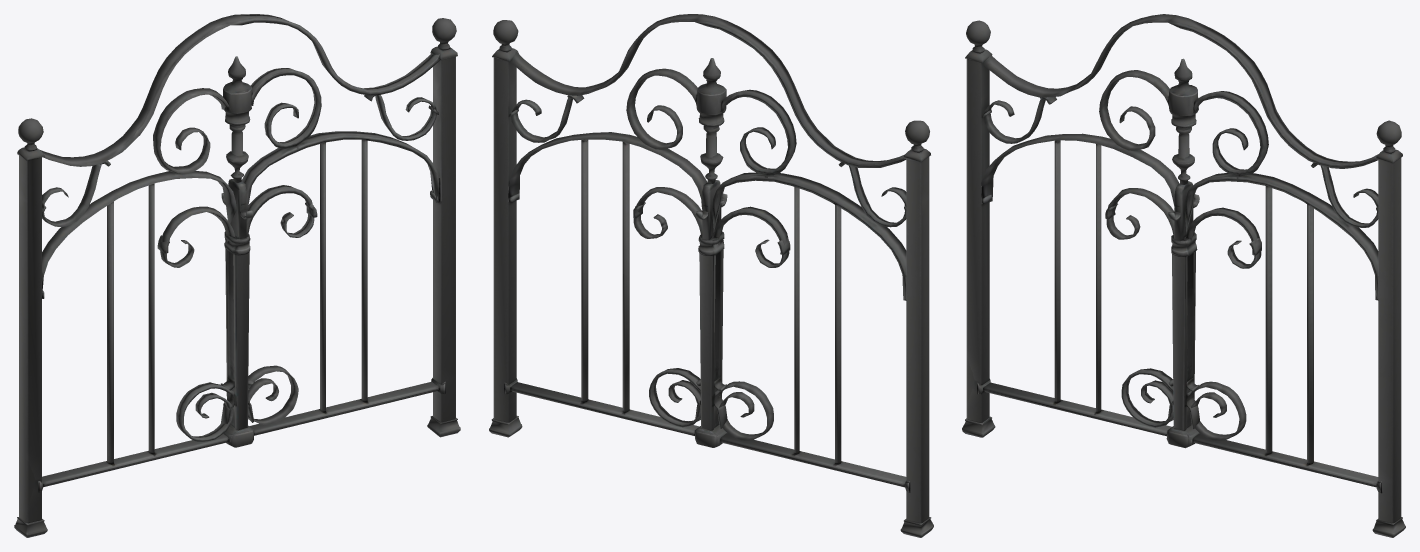
File: selected.glb
3 renders of one model, left to right at view 1: azimuth 30°, elevation 25°; view 2: azimuth 150°, elevation 25°; view 3: azimuth 330°, elevation 25°, orthographic.
Parts seen in each view (by area): view 1: tripo_node_3a478fa9-6e60-41e9-8002-80bcc7d87072; view 2: tripo_node_3a478fa9-6e60-41e9-8002-80bcc7d87072; view 3: tripo_node_3a478fa9-6e60-41e9-8002-80bcc7d87072.
Part boxes in pixels (box(x1,y1,x2,y2)): tripo_node_3a478fa9-6e60-41e9-8002-80bcc7d87072: box(14, 14, 460, 537); tripo_node_3a478fa9-6e60-41e9-8002-80bcc7d87072: box(489, 14, 933, 537); tripo_node_3a478fa9-6e60-41e9-8002-80bcc7d87072: box(962, 14, 1405, 537).
Bounding box in the file's own units: 0.9785 × 0.998 × 0.0996.
Materials: 1 (1 with a texture image).
